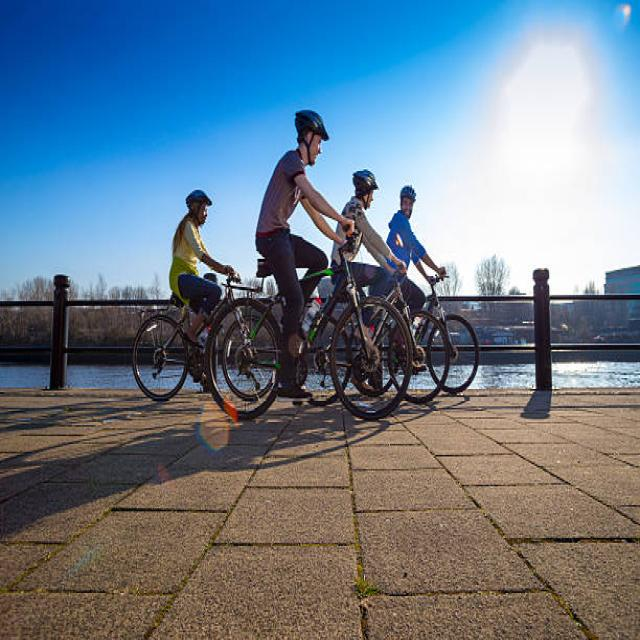bicycle: (206, 112, 412, 420), (132, 189, 239, 400)
